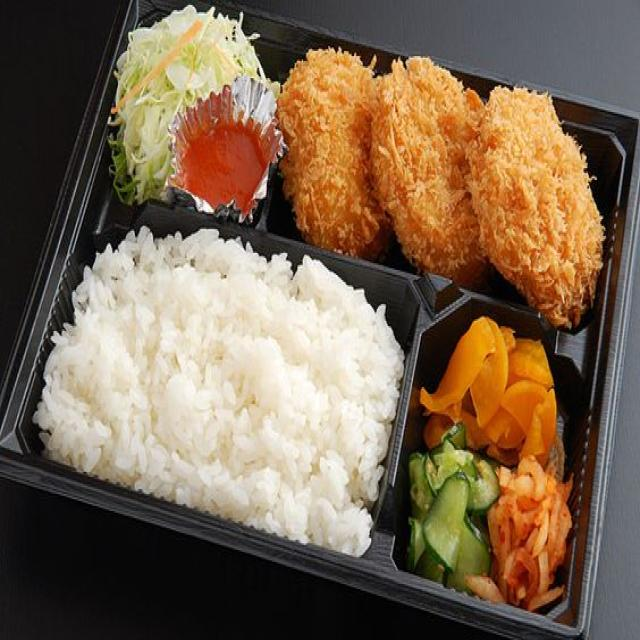Carbohydrate: (31, 213, 402, 559)
Kaow-Friedpork: (0, 1, 640, 640)
Protein: (278, 44, 604, 323)
Vegetable: (408, 301, 572, 613), (105, 3, 277, 195)
